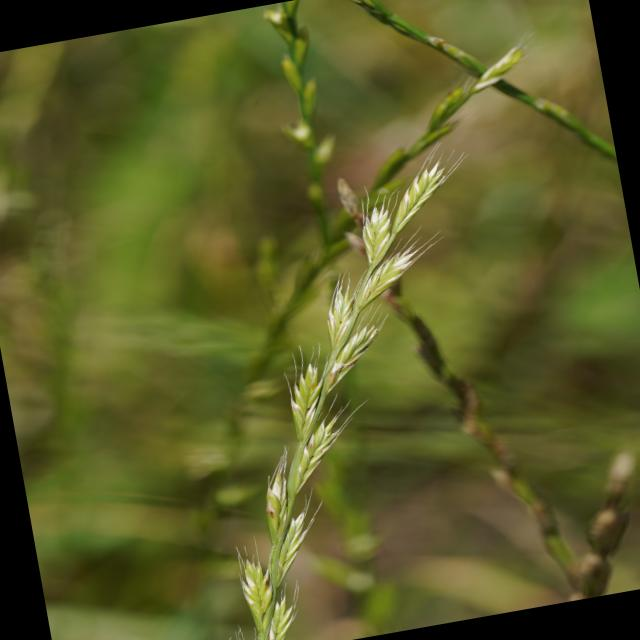Lolium: (149, 159, 532, 640)
